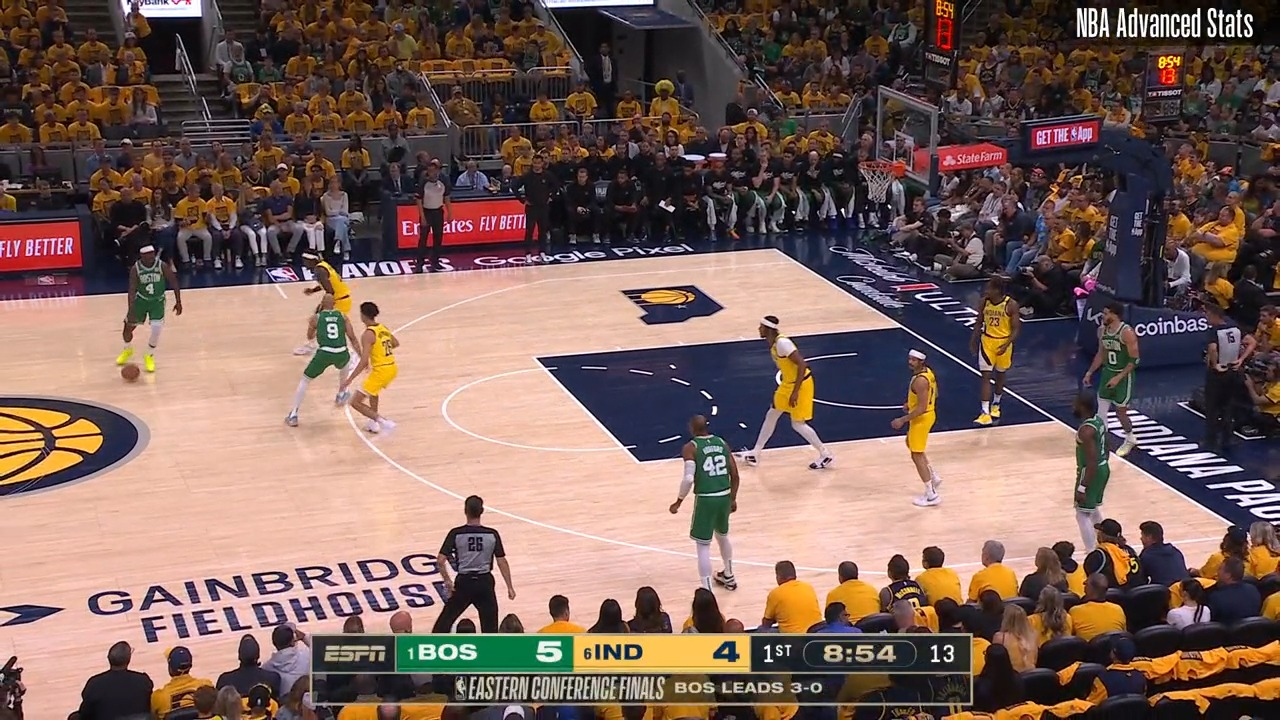basketball: (119, 361, 143, 382)
